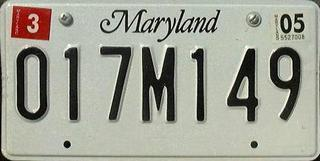placa de veiculo: (6, 0, 316, 161)
